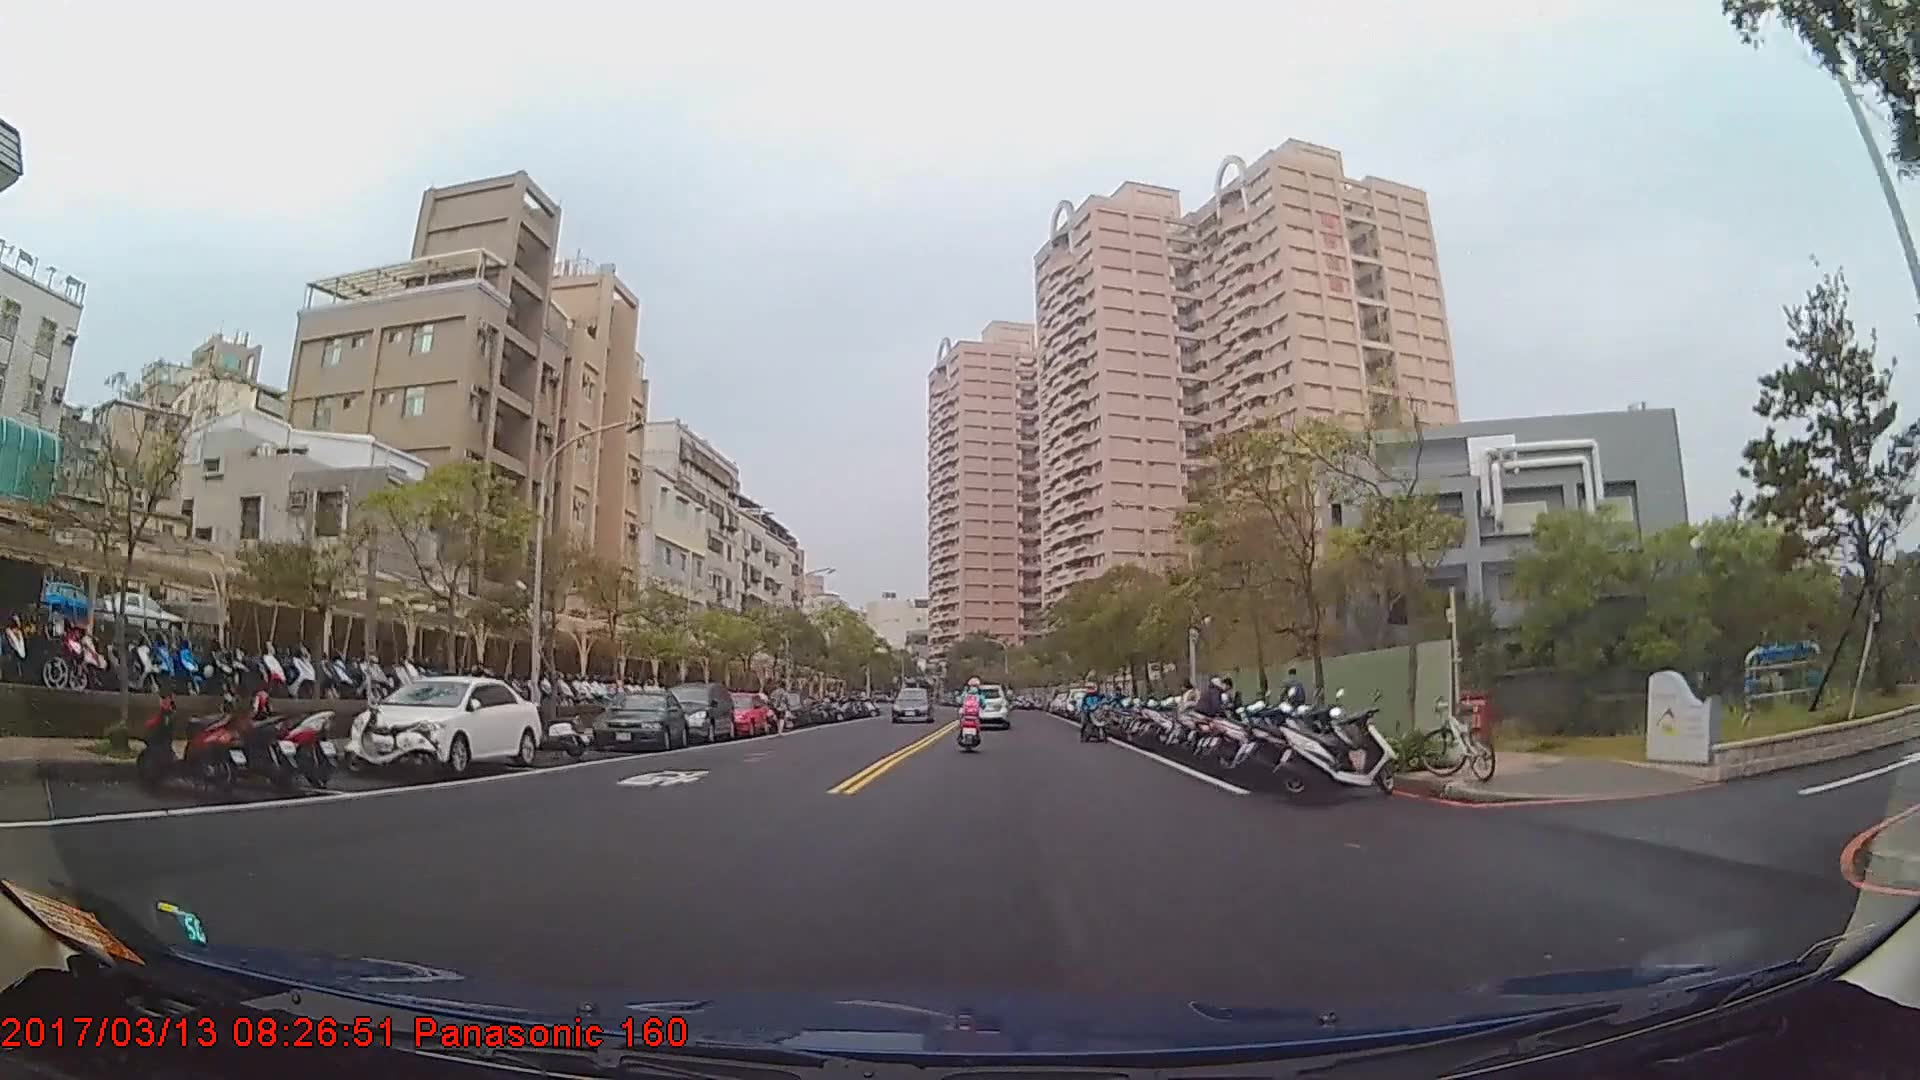pedestrian: (1195, 677, 1234, 761), (1278, 665, 1307, 734), (1175, 678, 1201, 751), (768, 680, 798, 741)
rider: (957, 679, 987, 752), (1078, 684, 1106, 745)
vehicle: (356, 674, 538, 776), (589, 689, 686, 752), (662, 679, 734, 739), (701, 690, 767, 737), (956, 682, 1009, 730), (891, 686, 931, 724)
